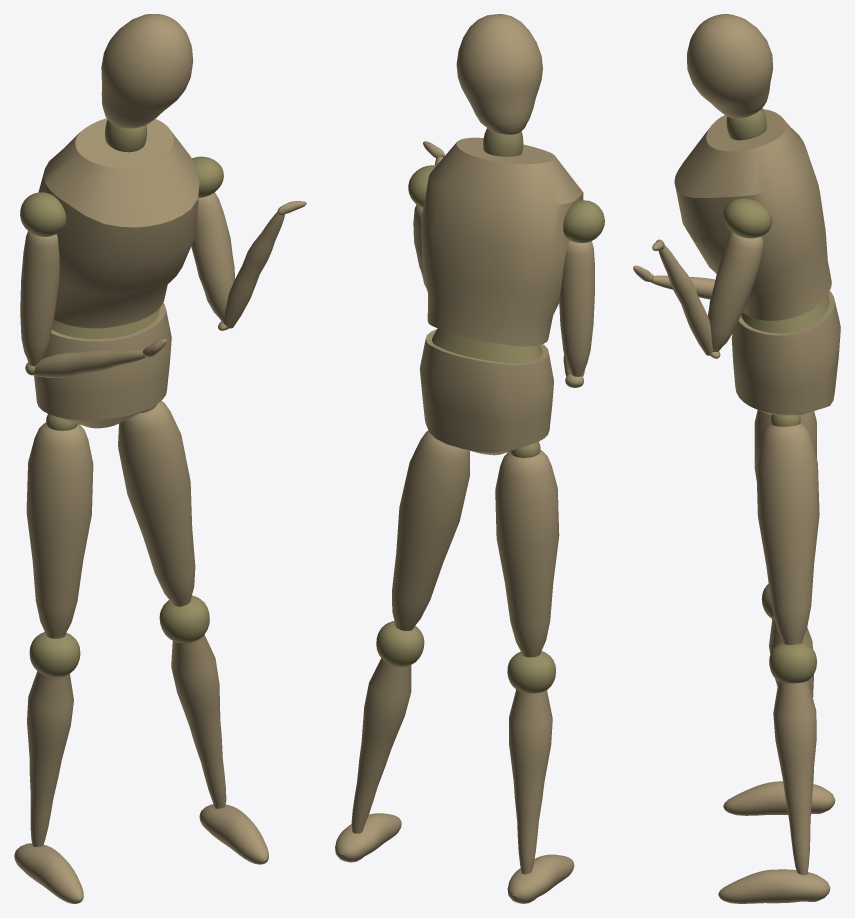
File: Mann_3.fbx
The picture shows the model from 3 angles, left to right: view 1: azimuth 30°, elevation 25°; view 2: azimuth 150°, elevation 25°; view 3: azimuth 270°, elevation 25°; orthographic projection. The views are drawn at different scales.
Parts seen in each view (by area): view 1: Cylinder.003; view 2: Cylinder.003; view 3: Cylinder.003.
Part boxes in pixels (bbox=[...]): Cylinder.003: bbox=[14, 14, 306, 903]; Cylinder.003: bbox=[335, 14, 604, 903]; Cylinder.003: bbox=[633, 14, 840, 903].
Size of the model in its own units: 59.9 by 205 by 46.17.
